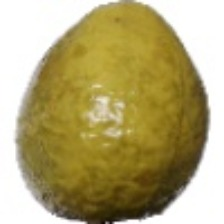guava: (0, 17, 198, 192)
